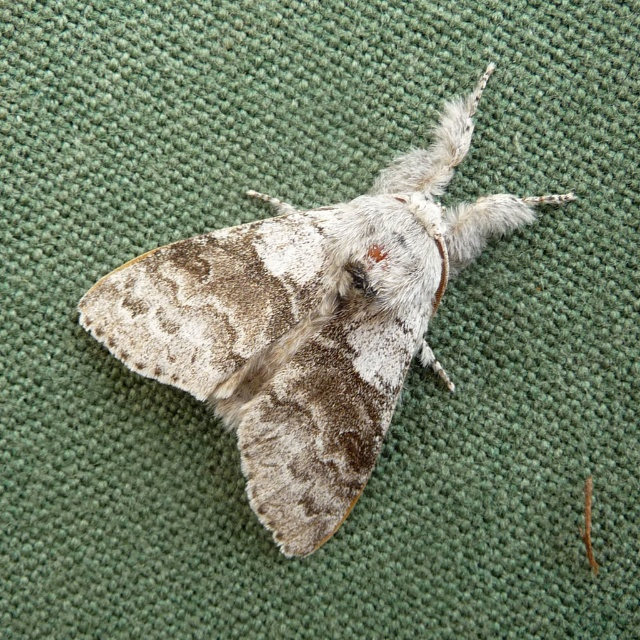Moths and butterflies: (74, 56, 581, 561)
